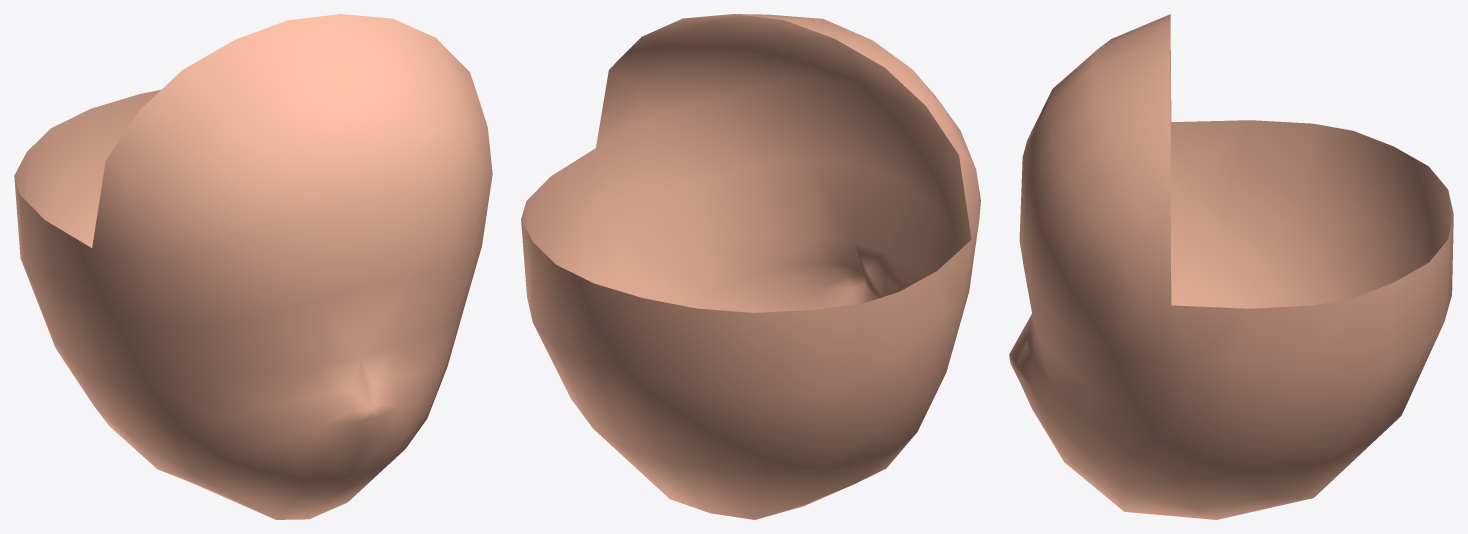
The picture shows the model from 3 angles, left to right: view 1: azimuth 30°, elevation 25°; view 2: azimuth 150°, elevation 25°; view 3: azimuth 270°, elevation 25°; orthographic projection. The views are drawn at different scales.
Visible parts, largest first — view 1: AF_M_Face_16; view 2: AF_M_Face_16; view 3: AF_M_Face_16.
Part boxes in pixels (<box>): AF_M_Face_16: <box>14,14,492,519</box>; AF_M_Face_16: <box>521,14,980,519</box>; AF_M_Face_16: <box>1009,14,1453,519</box>.
Bounding box in the file's own units: 664 × 764 × 661.
Materials: 1 (1 with a texture image).
